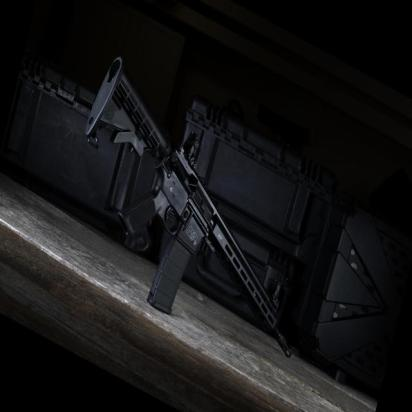Gun: (73, 91, 334, 315)
